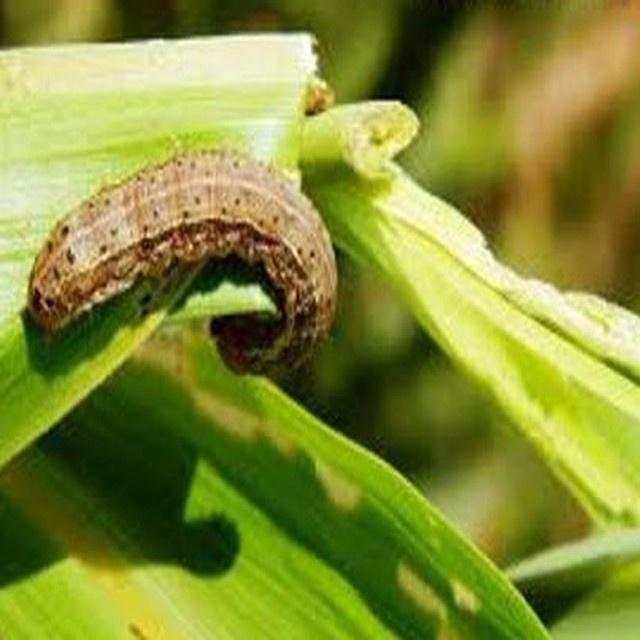gusano_cogollero: (26, 148, 342, 375)
